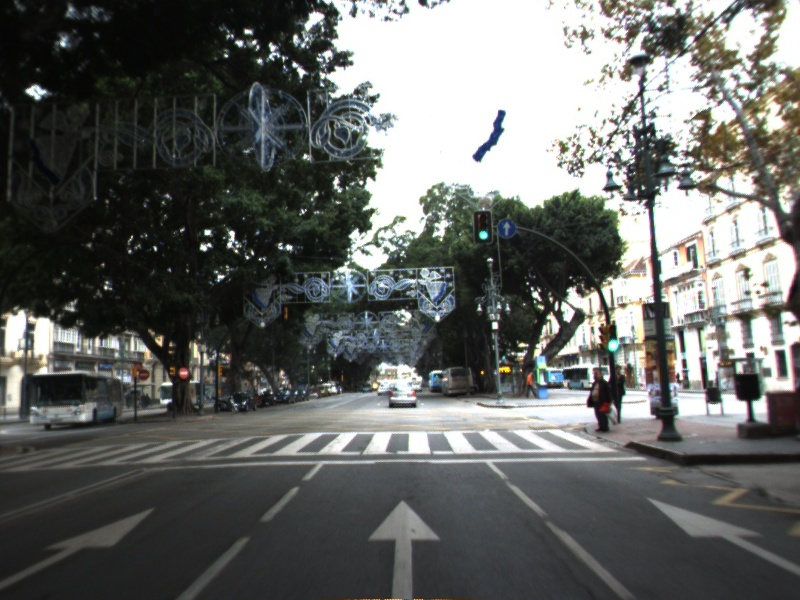STRAIGHT: (1, 503, 160, 589), (641, 493, 800, 574), (365, 497, 443, 600)
